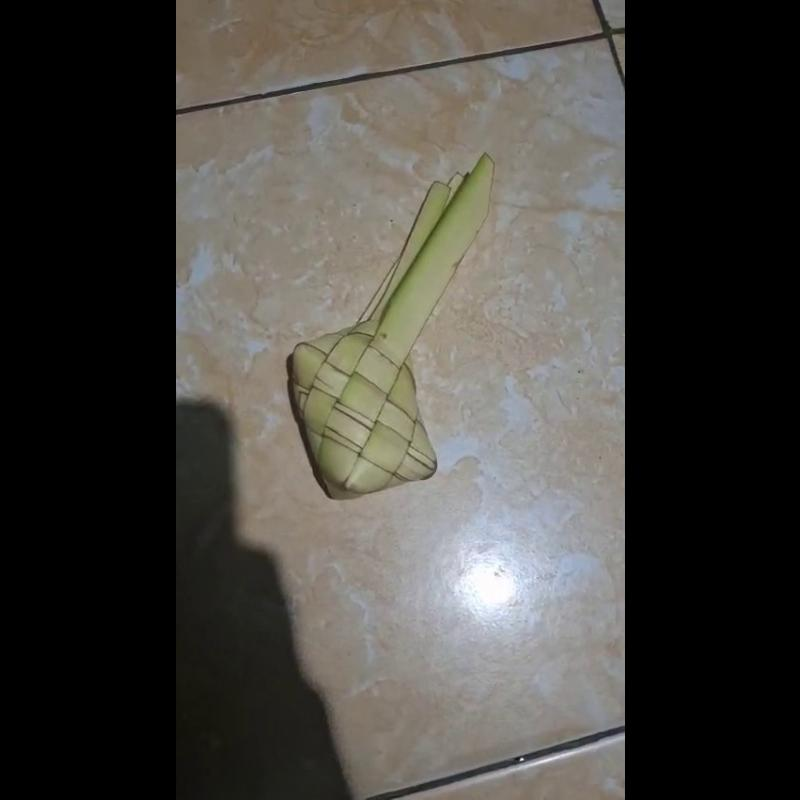Tipat Bantal: (277, 155, 496, 504)
